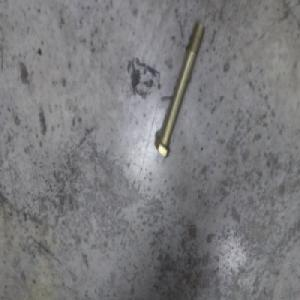Bolt: (155, 25, 204, 156)
